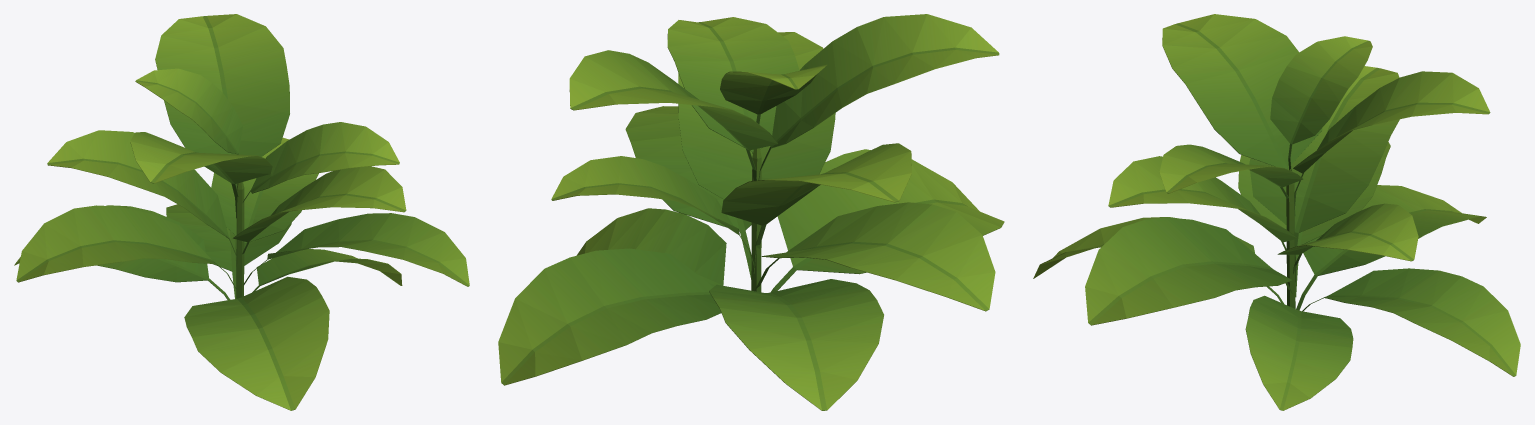
The model's file is arbusto.obj.
3 renders of one model, left to right at view 1: azimuth 30°, elevation 25°; view 2: azimuth 150°, elevation 25°; view 3: azimuth 270°, elevation 25°, orthographic. The views are drawn at different scales.
Parts seen in each view (by area): view 1: Arbusto:Arbusto_Nature_Mat_01_010; view 2: Arbusto:Arbusto_Nature_Mat_01_010; view 3: Arbusto:Arbusto_Nature_Mat_01_010.
Boxes of the visible parts, x1,y1,x2,y2 form: Arbusto:Arbusto_Nature_Mat_01_010: [14, 14, 469, 410]; Arbusto:Arbusto_Nature_Mat_01_010: [498, 14, 1004, 410]; Arbusto:Arbusto_Nature_Mat_01_010: [1033, 14, 1520, 410].
Size of the model in its own units: 9.85 by 6.67 by 10.61.
1 material, 1 textured.
